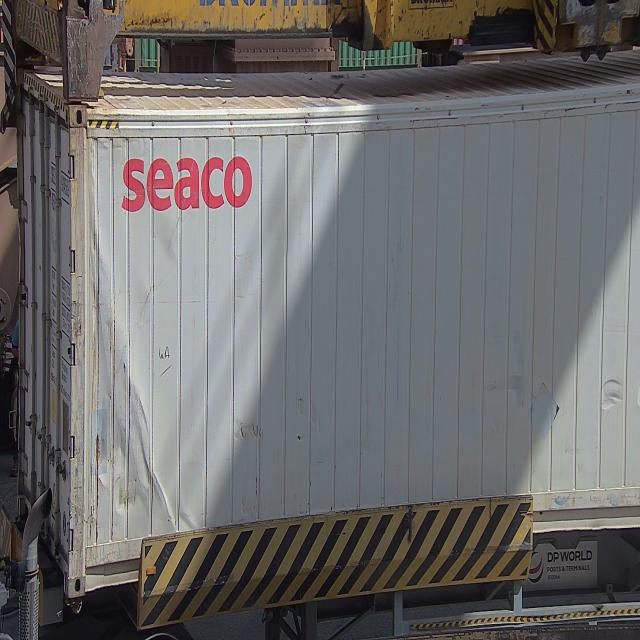dent: (89, 214, 193, 530)
